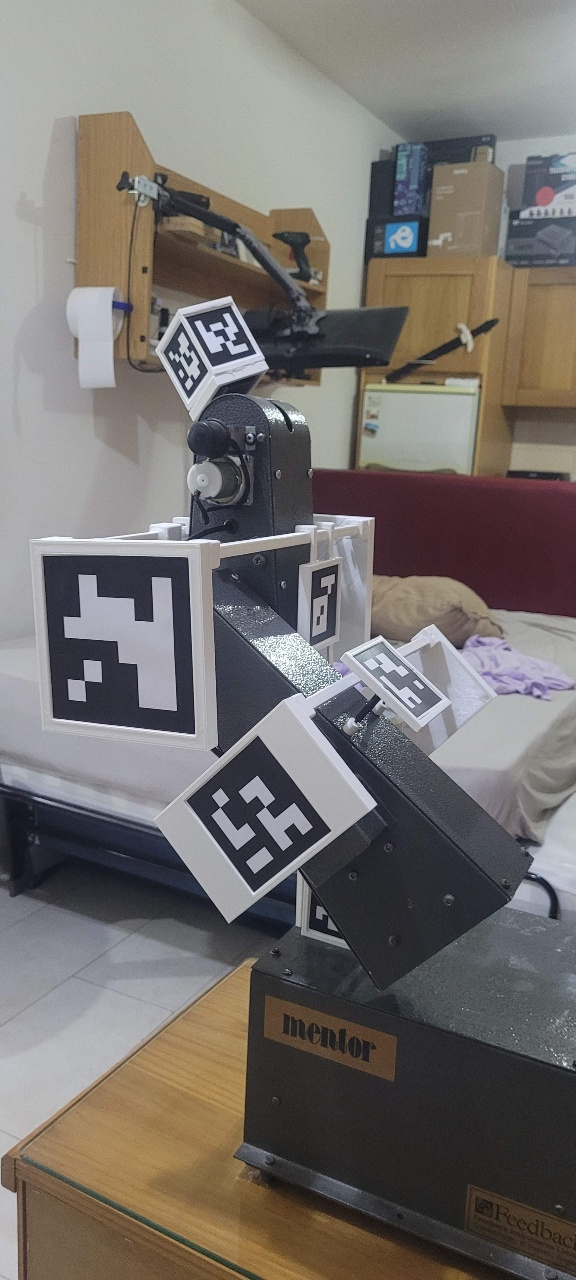Robot: (119, 382, 555, 1110)
